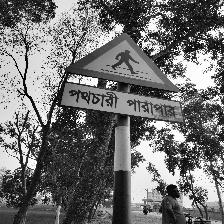Pedestrian-crossing: (60, 32, 184, 124)
